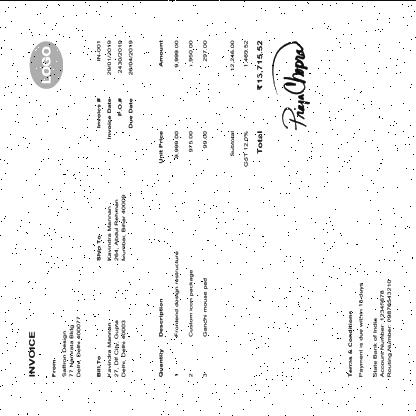Paragraph: (347, 277, 393, 378), (230, 38, 264, 166), (96, 38, 134, 140), (95, 192, 127, 262), (51, 314, 82, 378), (96, 318, 126, 378), (28, 330, 36, 378)
Table: (156, 36, 212, 382)
